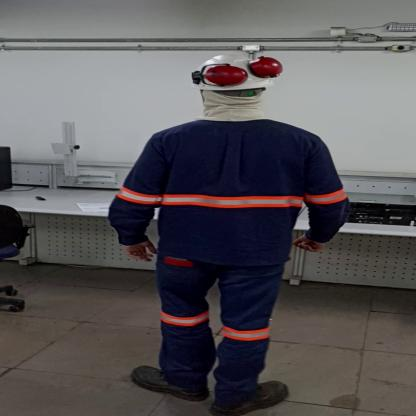Balaclava: (192, 89, 276, 125)
Capacete: (184, 51, 285, 92)
